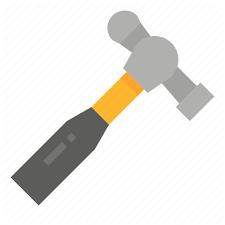hammer: (8, 8, 216, 206)
